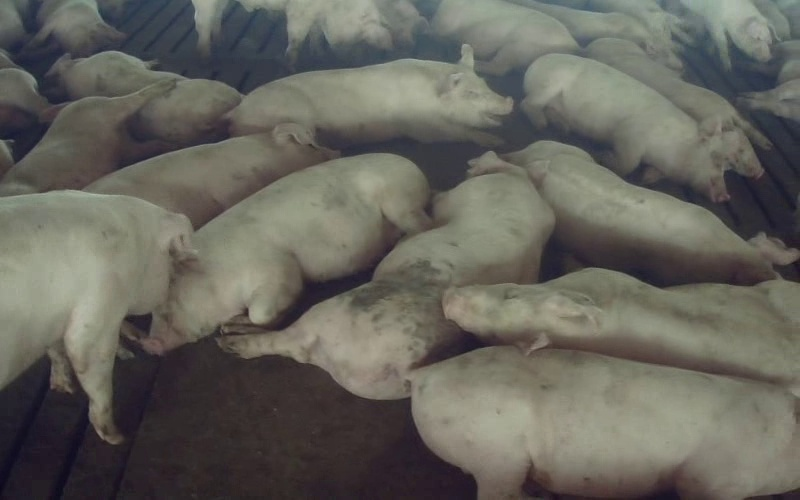pig: (220, 152, 553, 397), (412, 346, 799, 499), (143, 154, 429, 352), (443, 268, 799, 395), (506, 141, 799, 284), (521, 54, 727, 201), (228, 45, 512, 146), (84, 123, 338, 228), (585, 38, 770, 177), (0, 82, 173, 196), (45, 51, 241, 145), (431, 0, 579, 74), (681, 0, 772, 70), (27, 0, 124, 56)
